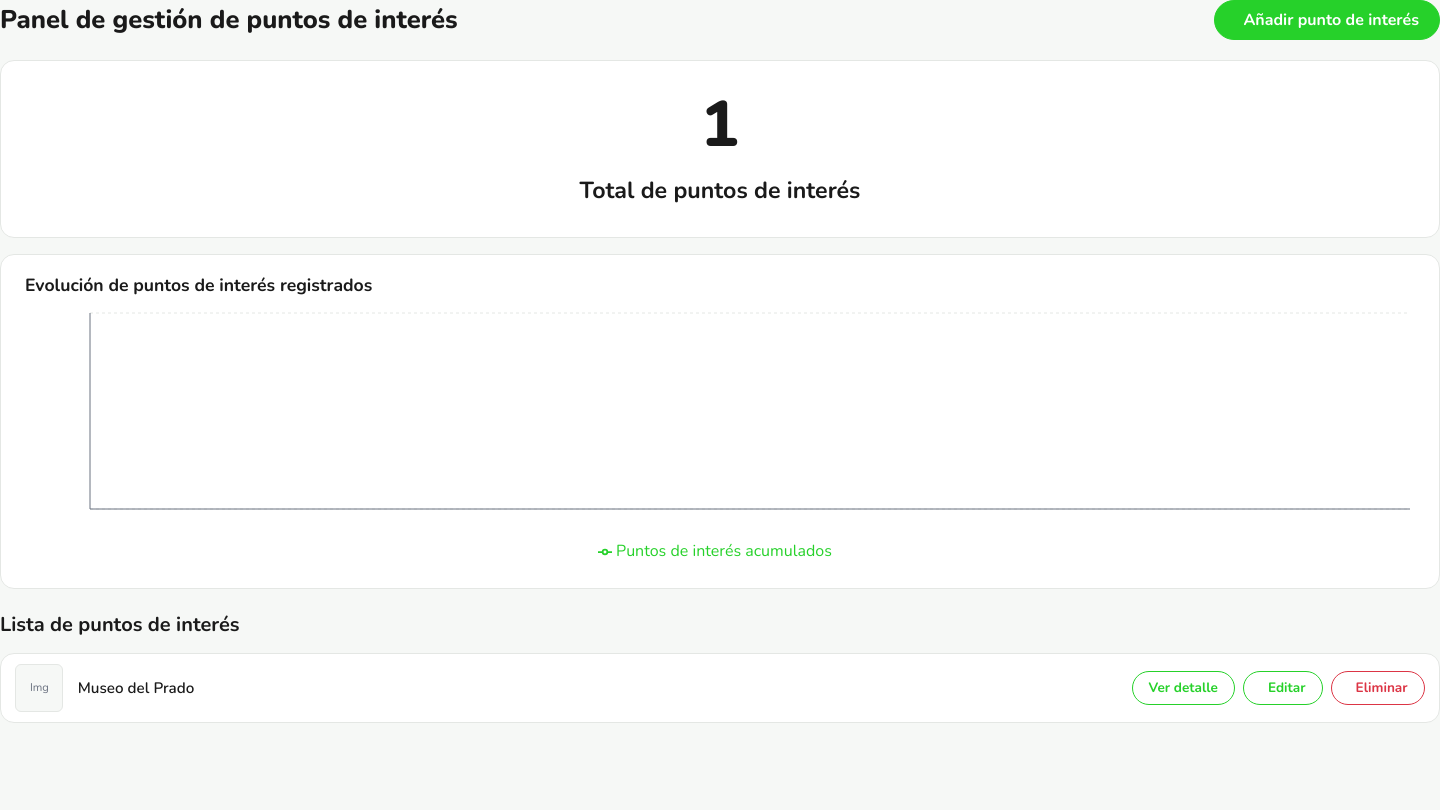
Test case: Checks if delete UI elements render properly
This screenshot has width=1440, height=810.
Click the button "Eliminar": (1378, 688) x1=1331 y1=671 x2=1425 y2=705
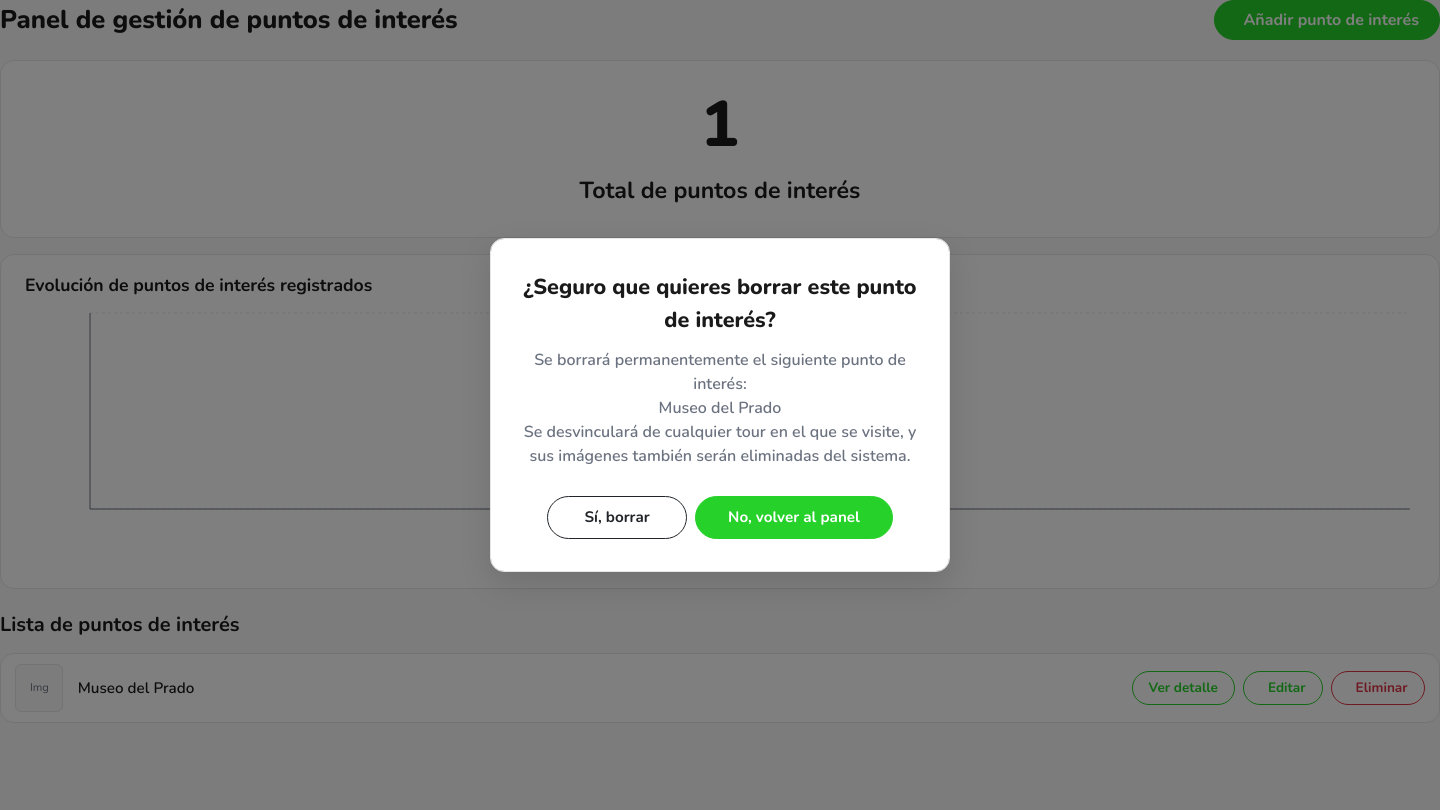
Result: the text "Se borrará permanentemente el siguiente punto de interés" shows "Museo del Prado" at x1=524 y1=349 x2=916 y2=467
Click the button "Sí, borrar": (617, 517) x1=547 y1=496 x2=687 y2=539
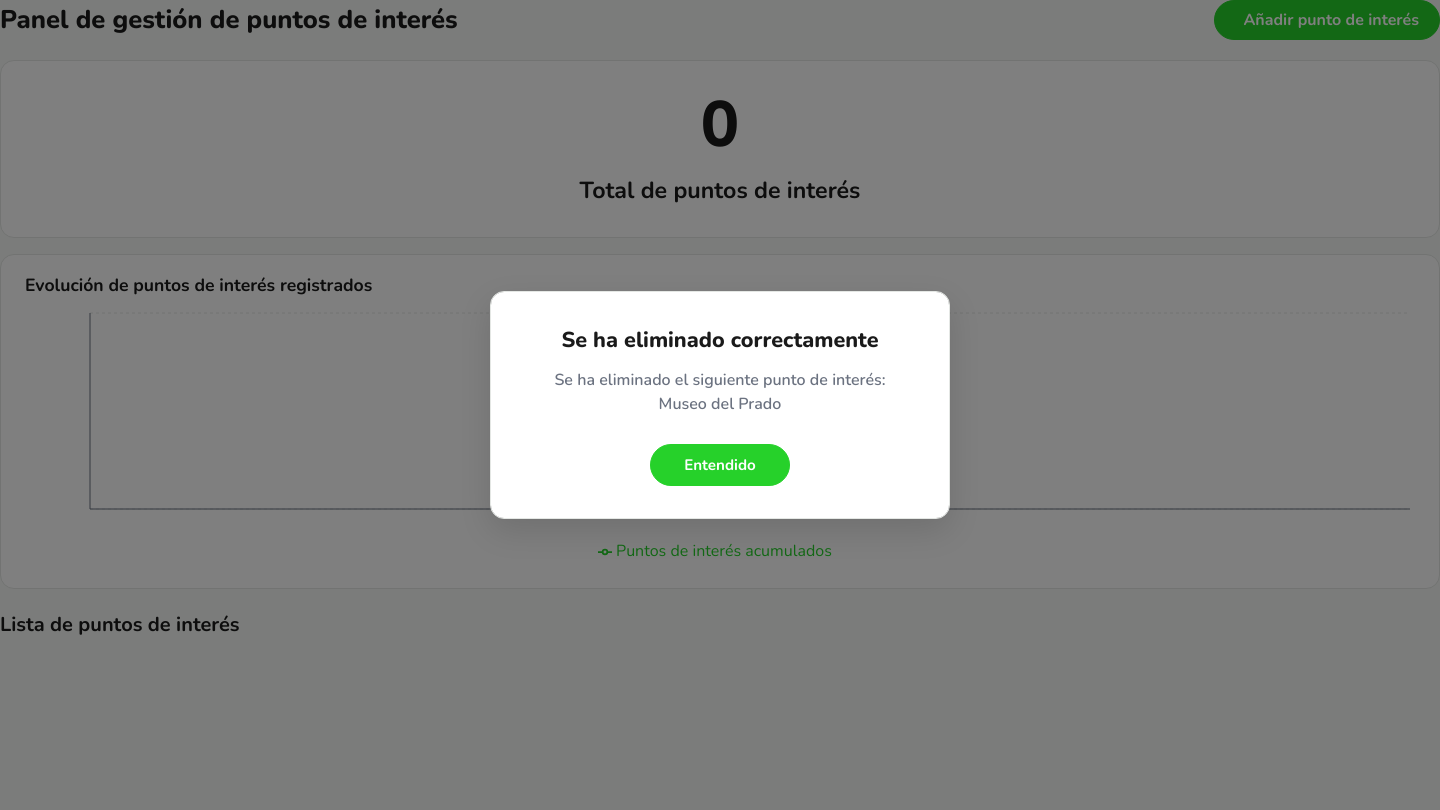
Result: the text "Se ha eliminado el siguiente punto de interés" shows "Museo del Prado" at x1=554 y1=369 x2=886 y2=415
